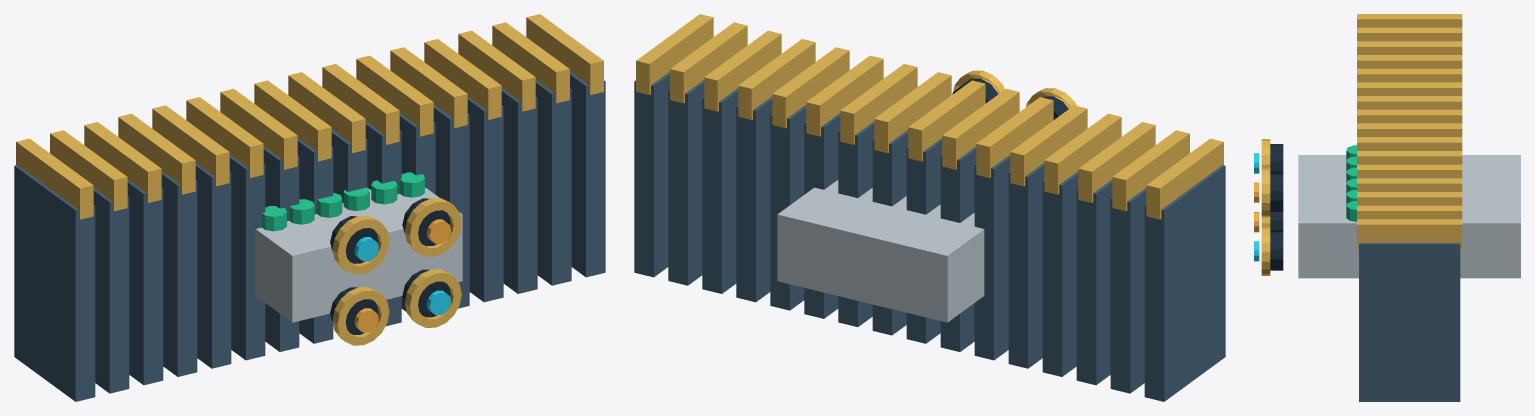
The model's file is 37_L83_BatteryCellVoltageTapArray.fbx.
3 renders of one model, left to right at view 1: azimuth 30°, elevation 25°; view 2: azimuth 150°, elevation 25°; view 3: azimuth 270°, elevation 25°, orthographic. The views are drawn at different scales.
Parts seen in each view (by area): view 1: BatteryCellVoltageTapArray, BatteryCellVoltageTapArray_Part_0032, BatteryCellVoltageTapArray_Part_0037, BatteryCellVoltageTapArray_Part_0038, BatteryCellVoltageTapArray_Part_0033, BatteryCellVoltageTapArray_Part_0034, BatteryCellVoltageTapArray_Part_0036, BatteryCellVoltageTapArray_Part_0035; view 2: BatteryCellVoltageTapArray, BatteryCellVoltageTapArray_Part_0032; view 3: BatteryCellVoltageTapArray, BatteryCellVoltageTapArray_Part_0032.
Part boxes in pixels (x1,y1,x2,y2): BatteryCellVoltageTapArray: (14, 14, 605, 401); BatteryCellVoltageTapArray_Part_0032: (255, 187, 462, 322); BatteryCellVoltageTapArray_Part_0037: (371, 180, 397, 204); BatteryCellVoltageTapArray_Part_0038: (400, 172, 424, 197); BatteryCellVoltageTapArray_Part_0033: (262, 206, 286, 231); BatteryCellVoltageTapArray_Part_0034: (289, 199, 314, 224); BatteryCellVoltageTapArray_Part_0036: (343, 187, 369, 210); BatteryCellVoltageTapArray_Part_0035: (317, 192, 342, 217); BatteryCellVoltageTapArray: (634, 14, 1225, 401); BatteryCellVoltageTapArray_Part_0032: (777, 180, 984, 322); BatteryCellVoltageTapArray: (1254, 14, 1462, 401); BatteryCellVoltageTapArray_Part_0032: (1298, 155, 1520, 278).
Bounding box in the file's own units: 125 × 48 × 65.95.
